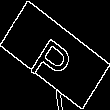P_NE: (29, 24, 81, 86)
